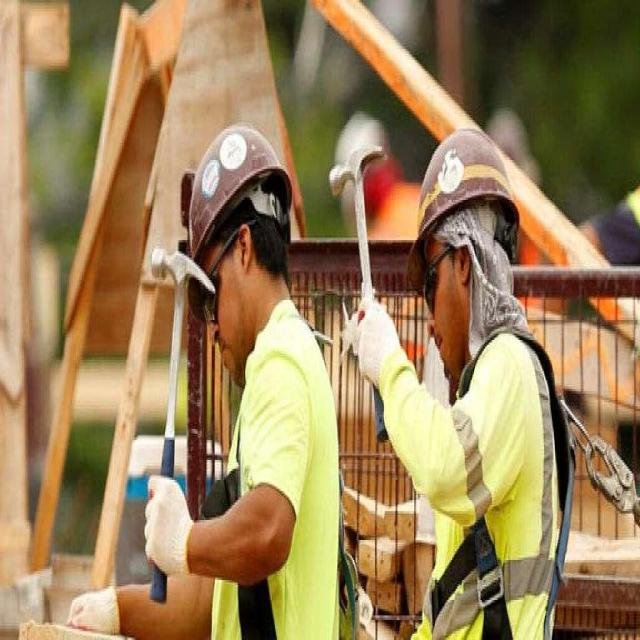Reflective-Jacket: (389, 329, 565, 640), (194, 311, 358, 640)
Safety-Helmet: (178, 108, 300, 266), (406, 110, 524, 271)
